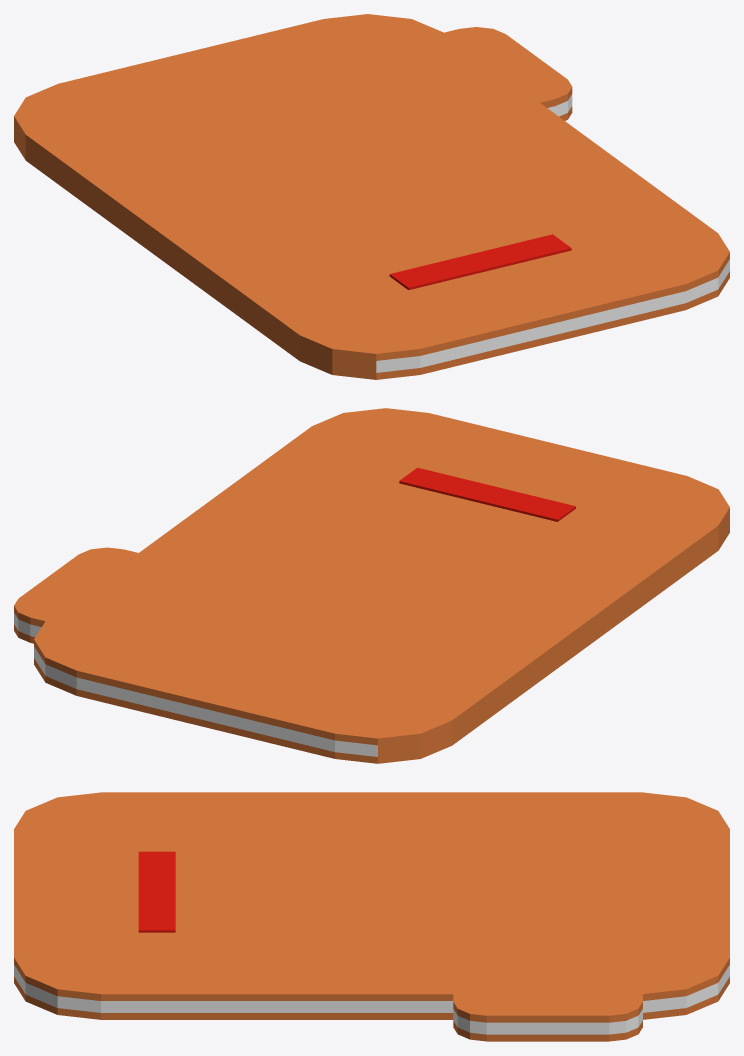
The model's file is case file v2.fbx.
3 views of the same model, one above another, from view 1: azimuth 30°, elevation 25°; view 2: azimuth 150°, elevation 25°; view 3: azimuth 270°, elevation 25° (orthographic). The views are drawn at different scales.
Parts seen in each view (by area): view 1: Cube.001; view 2: Cube.001; view 3: Cube.001.
Part boxes in pixels (x1,y1,x2,y2): Cube.001: [14, 14, 729, 379]; Cube.001: [14, 408, 729, 763]; Cube.001: [14, 792, 729, 1041].
Bounding box in the file's own units: 221 × 13.01 × 300.
